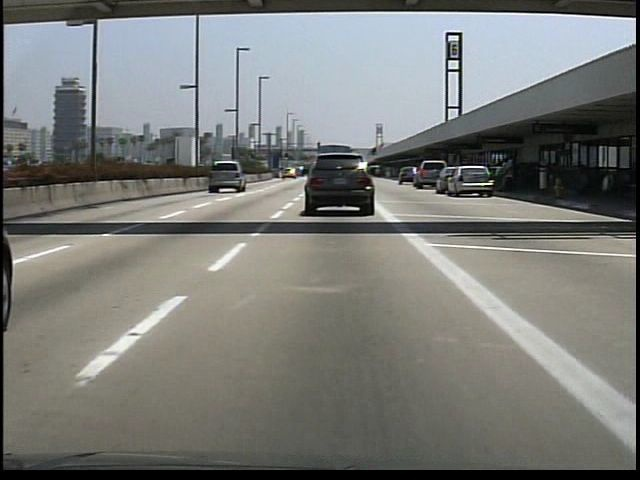person: (502, 152, 524, 193), (491, 158, 505, 192)
